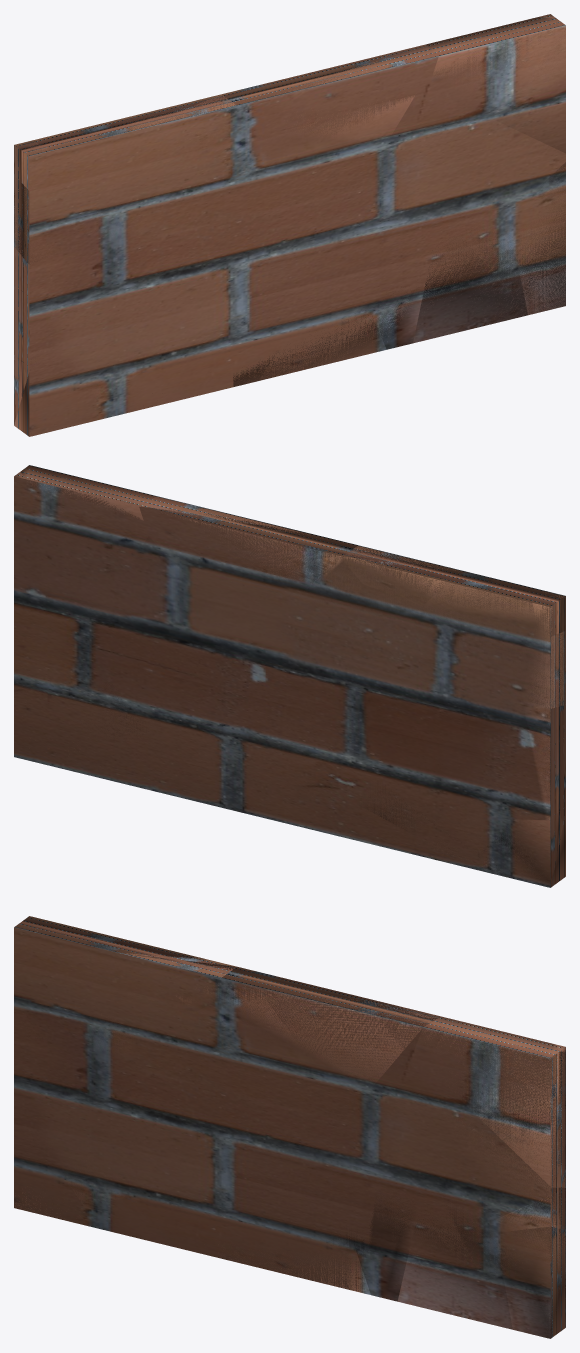
Rendered from Wall.fbx.
The picture shows the model from 3 angles, top to bottom: view 1: azimuth 30°, elevation 25°; view 2: azimuth 150°, elevation 25°; view 3: azimuth 330°, elevation 25°; orthographic projection.
Parts seen in each view (by area): view 1: Cube, Cube_cell.016, Cube_cell.028, Cube_cell.017, Cube_cell.002, Cube_cell.019, Cube_cell.026, Cube_cell.022, Cube_cell.007, Cube_cell.003, Cube_cell.025, Cube_cell.018 (+4 smaller); view 2: Cube, Cube_cell.026, Cube_cell.007, Cube_cell.012, Cube_cell.014, Cube_cell.001, Cube_cell.018, Cube_cell.002, Cube_cell.004, Cube_cell.013, Cube_cell.011, Cube_cell.016 (+4 smaller); view 3: Cube, Cube_cell.002, Cube_cell.028, Cube_cell.016, Cube_cell.007, Cube_cell.017, Cube_cell.026, Cube_cell.022, Cube_cell.025, Cube_cell.014, Cube_cell.006, Cube_cell.003 (+3 smaller).
Boxes of the visible parts, bbox=[...] form: Cube: bbox=[14, 17, 565, 436]; Cube_cell.016: bbox=[425, 17, 565, 153]; Cube_cell.028: bbox=[413, 215, 527, 343]; Cube_cell.017: bbox=[440, 111, 565, 218]; Cube_cell.002: bbox=[237, 46, 438, 153]; Cube_cell.019: bbox=[193, 148, 321, 264]; Cube_cell.026: bbox=[84, 287, 224, 401]; Cube_cell.022: bbox=[512, 194, 565, 314]; Cube_cell.007: bbox=[220, 236, 381, 317]; Cube_cell.003: bbox=[233, 310, 386, 386]; Cube_cell.025: bbox=[375, 263, 428, 349]; Cube_cell.018: bbox=[14, 175, 84, 264]; Cube: bbox=[14, 474, 565, 885]; Cube_cell.026: bbox=[358, 689, 509, 844]; Cube_cell.007: bbox=[206, 598, 363, 729]; Cube_cell.012: bbox=[423, 582, 536, 688]; Cube_cell.014: bbox=[110, 536, 208, 669]; Cube_cell.001: bbox=[479, 812, 565, 887]; Cube_cell.018: bbox=[499, 625, 565, 708]; Cube_cell.002: bbox=[140, 496, 343, 591]; Cube_cell.004: bbox=[455, 686, 528, 776]; Cube_cell.013: bbox=[343, 545, 458, 605]; Cube_cell.011: bbox=[348, 584, 445, 671]; Cube_cell.016: bbox=[20, 465, 156, 520]; Cube: bbox=[14, 916, 565, 1338]; Cube_cell.002: bbox=[215, 986, 439, 1090]; Cube_cell.028: bbox=[397, 1189, 512, 1329]; Cube_cell.016: bbox=[422, 1016, 565, 1186]; Cube_cell.007: bbox=[201, 1137, 370, 1216]; Cube_cell.017: bbox=[406, 1055, 552, 1221]; Cube_cell.026: bbox=[53, 1133, 210, 1206]; Cube_cell.022: bbox=[497, 1227, 565, 1338]; Cube_cell.025: bbox=[349, 1186, 419, 1301]; Cube_cell.014: bbox=[368, 1095, 432, 1183]; Cube_cell.006: bbox=[490, 1190, 565, 1232]; Cube_cell.003: bbox=[218, 1225, 370, 1294].
Bounding box in the file's own units: 2000 × 1000 × 100.
